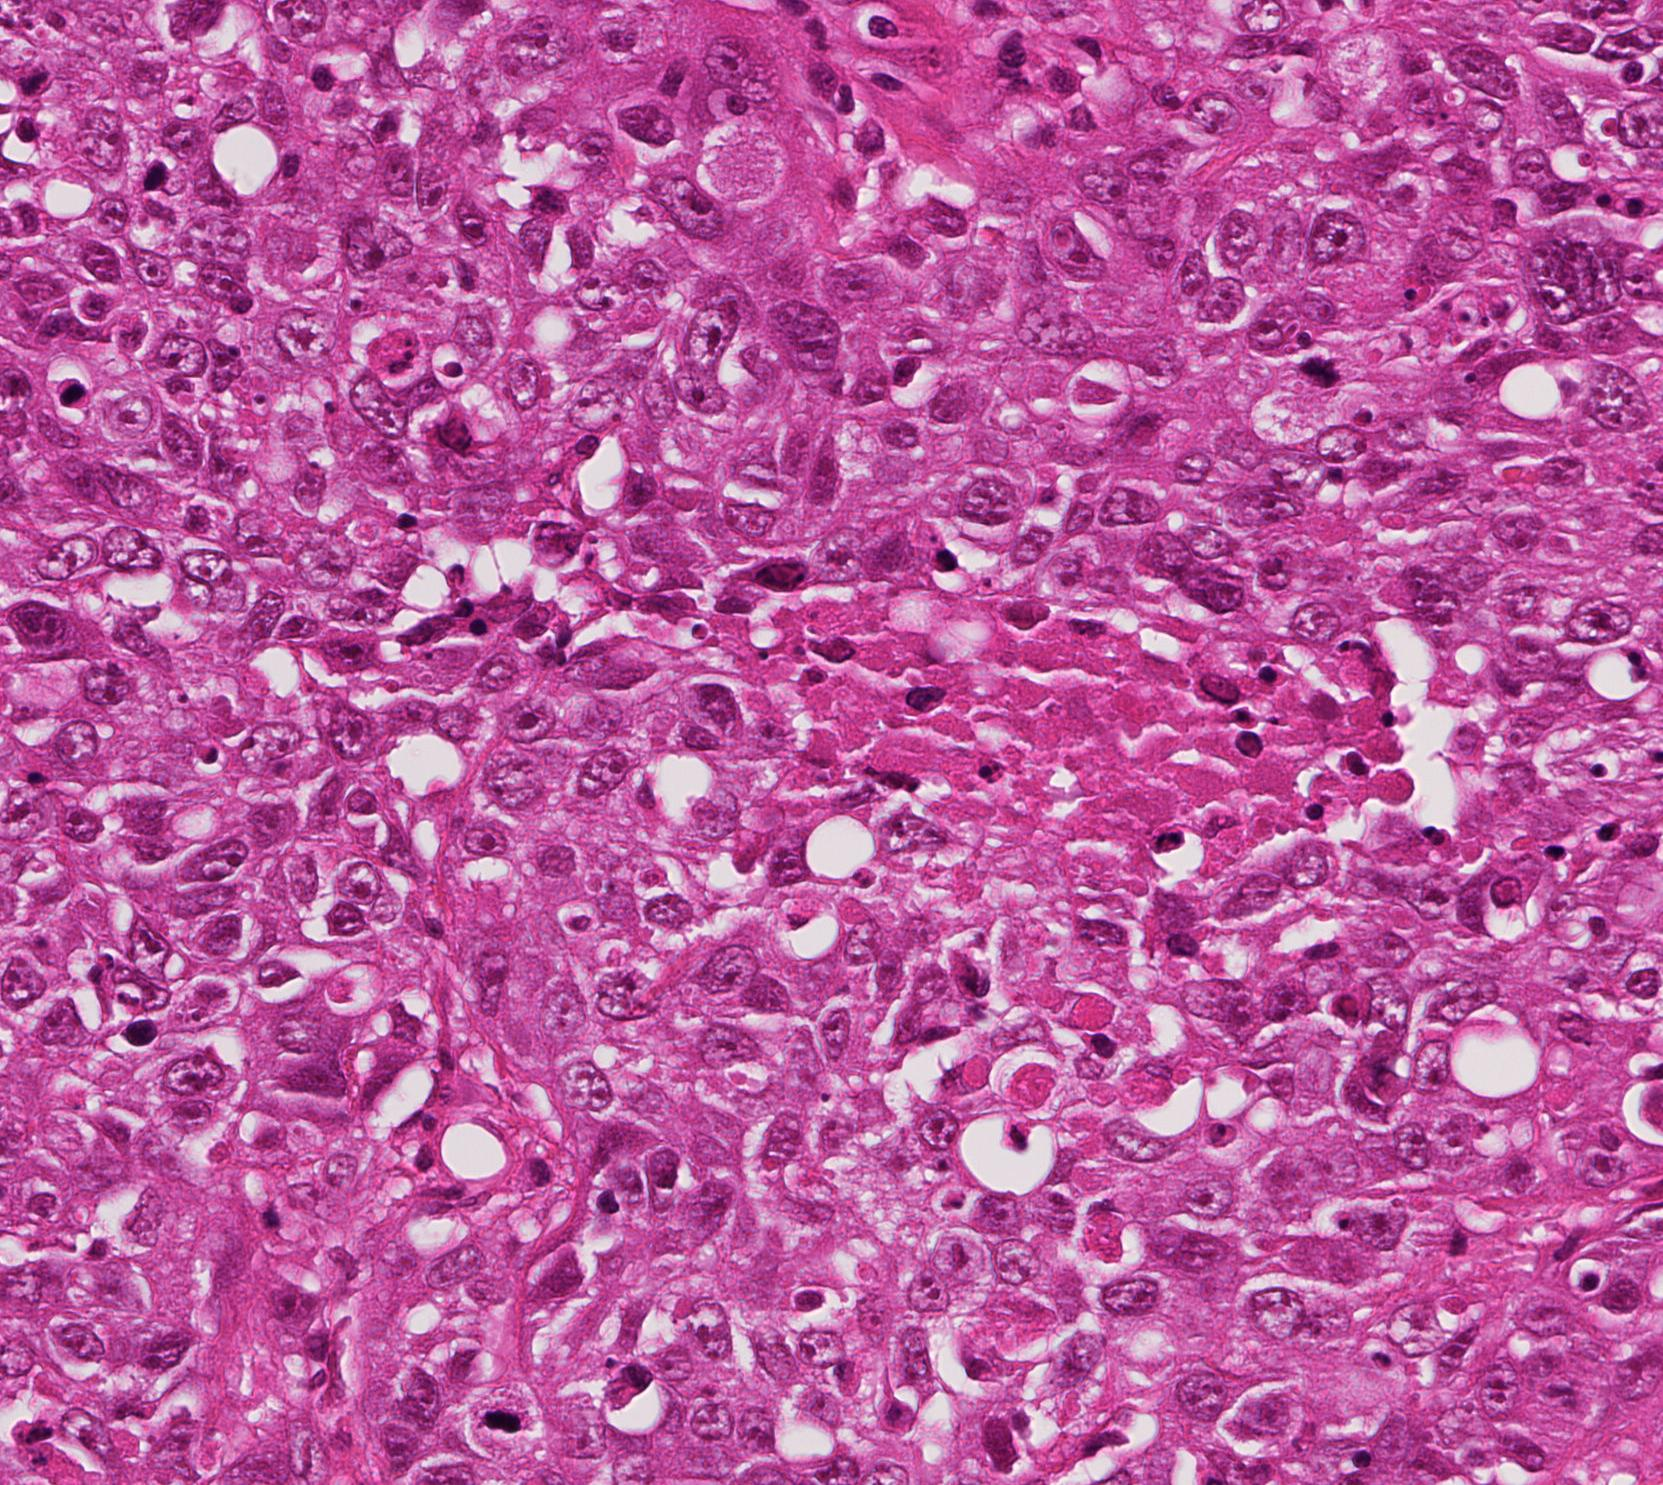mitosis: (482, 1386, 540, 1446), (1282, 333, 1342, 391)
